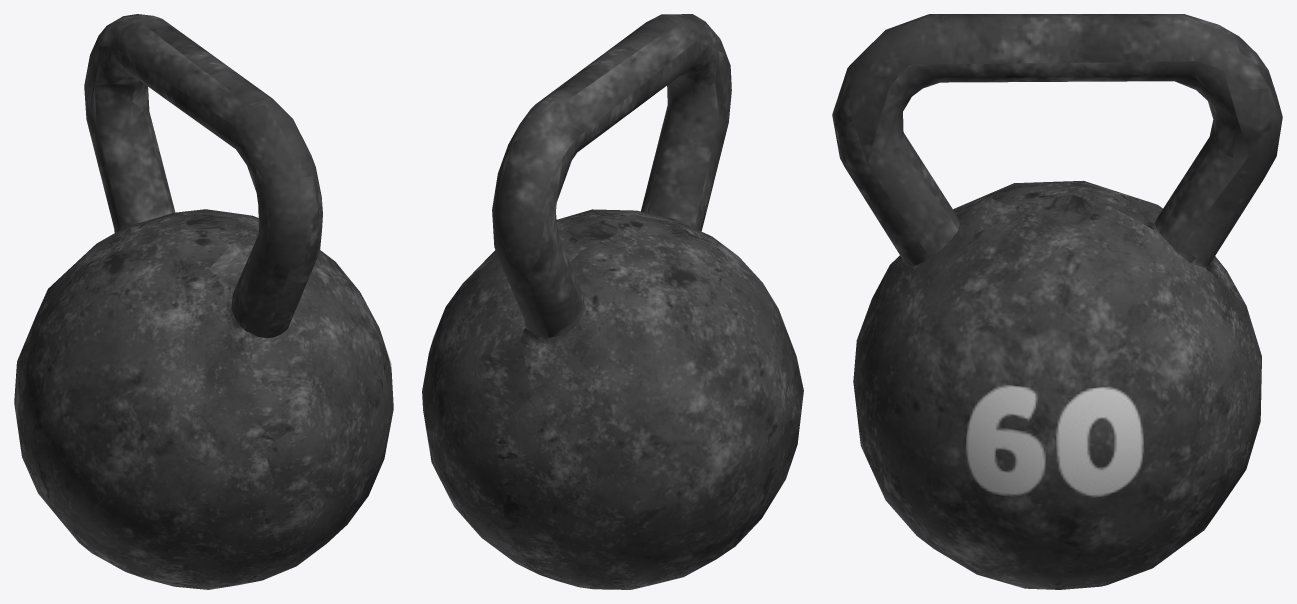
The model's file is weight.fbx.
3 views of the same model, side by side, from view 1: azimuth 30°, elevation 25°; view 2: azimuth 150°, elevation 25°; view 3: azimuth 270°, elevation 25° (orthographic). The views are drawn at different scales.
Visible parts, largest first — view 1: Circle; view 2: Circle; view 3: Circle.
Part boxes in pixels (box(x1,y1,x2,y2)): Circle: box(14, 14, 393, 589); Circle: box(422, 14, 803, 589); Circle: box(832, 14, 1282, 589).
Size of the model in its own units: 134 by 194 by 146.
